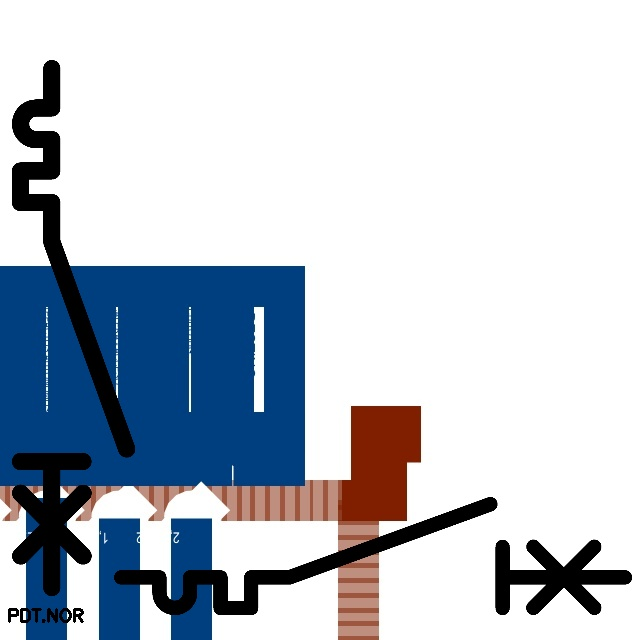interruptor_termomagnetico: (7, 55, 140, 600), (108, 491, 638, 621)
